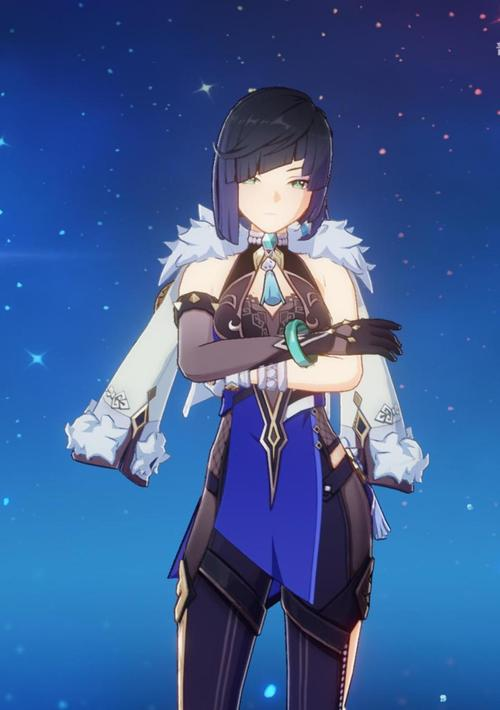夜兰: (165, 87, 408, 702)
